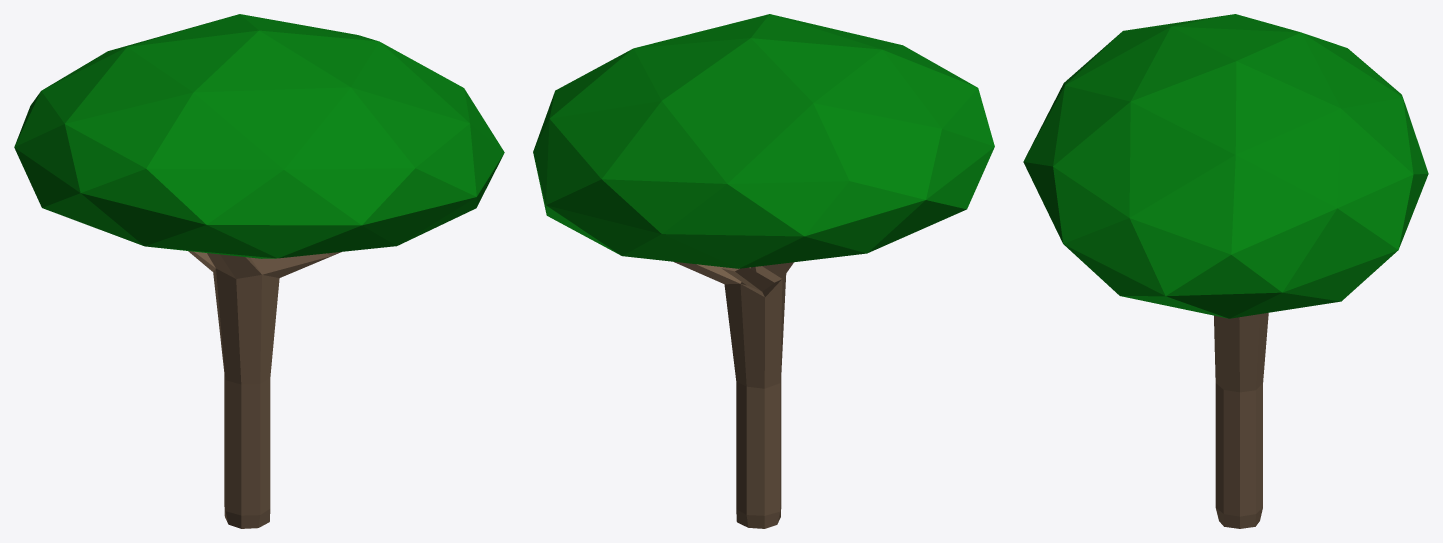
The model's file is Tree_Three.fbx.
The picture shows the model from 3 angles, left to right: view 1: azimuth 30°, elevation 25°; view 2: azimuth 150°, elevation 25°; view 3: azimuth 270°, elevation 25°; orthographic projection. The views are drawn at different scales.
Visible parts, largest first — view 1: Cube; view 2: Cube; view 3: Cube.
Boxes of the visible parts, x1,y1,x2,y2 form: Cube: (14,14,504,528); Cube: (533,14,994,528); Cube: (1023,14,1428,528).
Size of the model in its own units: 2738 by 3003 by 2366.
